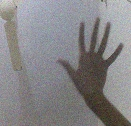hand: (54, 16, 125, 99)
